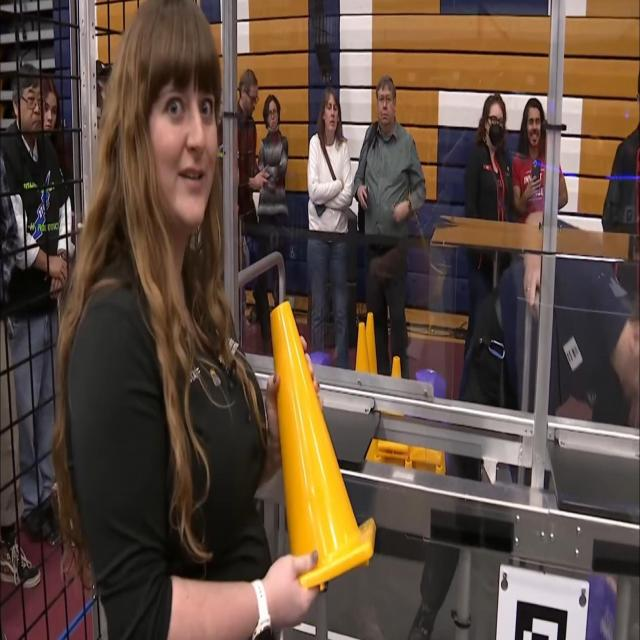frc_cone: (263, 295, 379, 582), (411, 446, 442, 476), (353, 324, 372, 371), (366, 305, 380, 365), (378, 438, 411, 461), (392, 356, 404, 377)
frc_cube: (414, 367, 445, 397)
